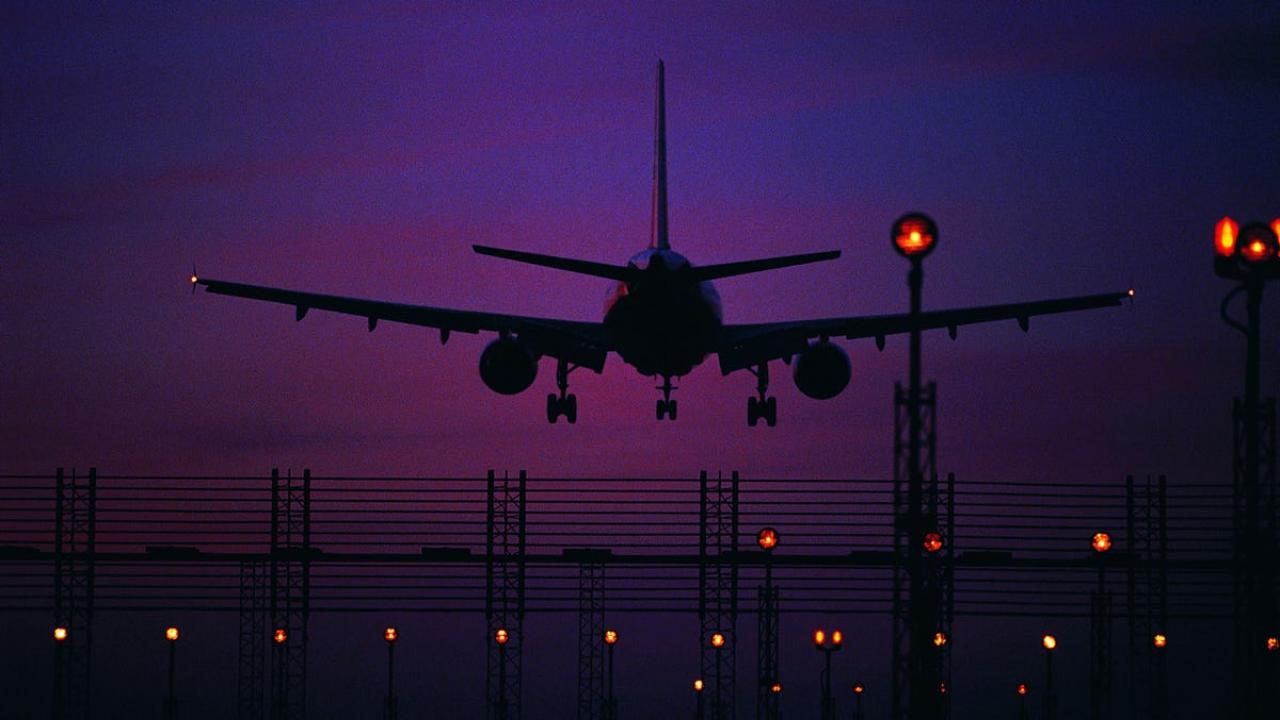Airplane: (172, 49, 1160, 448)
